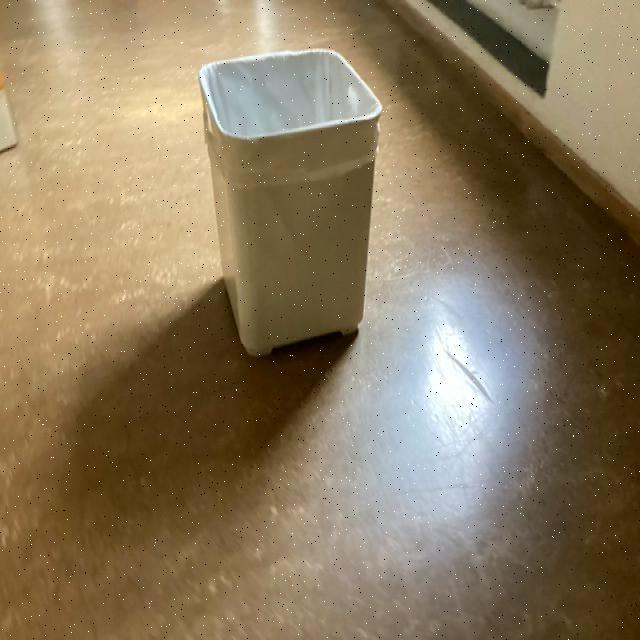garbage container: (186, 27, 403, 386)
